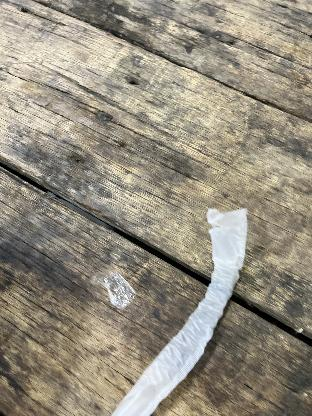Others: (105, 203, 254, 416)
